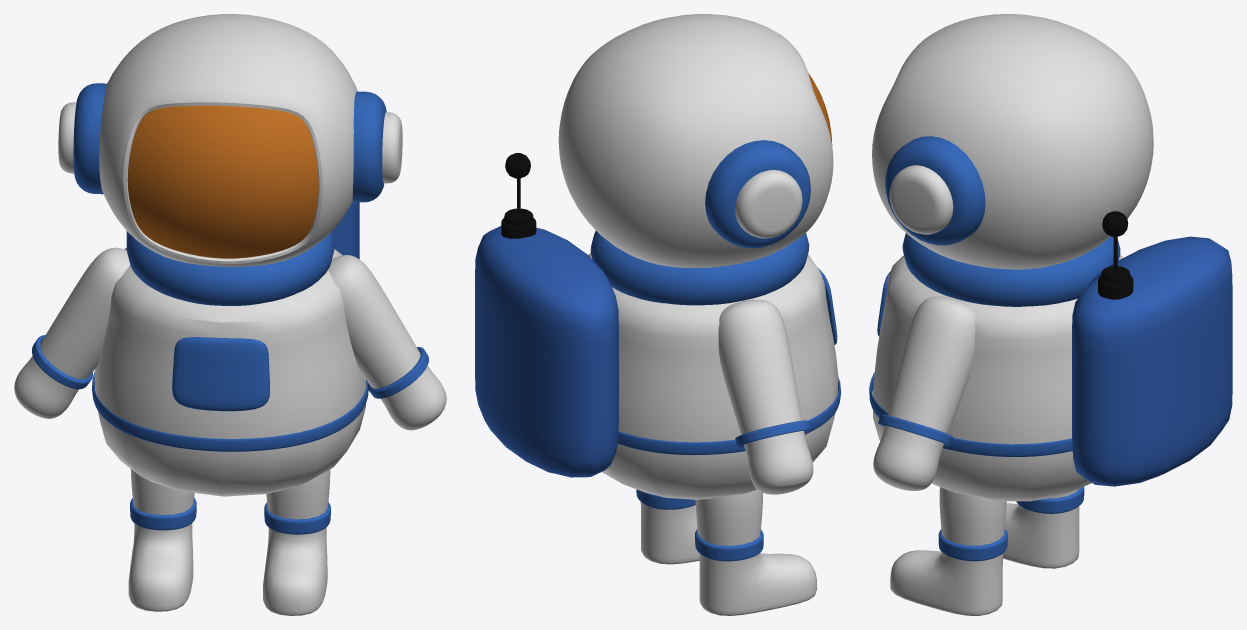
The model's file is spaceman_white.glb.
3 views of the same model, side by side, from view 1: azimuth 30°, elevation 25°; view 2: azimuth 150°, elevation 25°; view 3: azimuth 270°, elevation 25° (orthographic).
Parts seen in each view (by area): view 1: Cube.013, Cube.011, Cube.012, Cube.018, Cube.014, Cylinder.003, Torus.001, Cube.016, Cube.017, Cube.015, Cube.019, Cube.020; view 2: Cube.011, Cube.020, Cube.013, Cube.014, Cube.018, Cylinder.003, Torus.001, Cube.017, Cube.015, Cylinder.002, Cube.019, Cube.021; view 3: Cube.011, Cube.020, Cube.013, Cube.014, Cube.018, Cylinder.003, Torus.001, Cube.015, Cube.017, Cylinder.002, Cube.019, Cube.021.
Part boxes in pixels (x1,y1,x2,y2): Cube.013: (94, 248, 366, 496); Cube.011: (99, 14, 357, 266); Cube.012: (127, 105, 318, 258); Cube.018: (14, 247, 446, 430); Cube.014: (128, 469, 330, 615); Cylinder.003: (58, 83, 402, 202); Torus.001: (126, 232, 334, 305); Cube.016: (172, 337, 269, 411); Cube.017: (92, 371, 368, 451); Cube.015: (130, 498, 330, 534); Cube.019: (32, 335, 428, 398); Cube.020: (126, 202, 359, 259); Cube.011: (558, 14, 833, 267); Cube.020: (475, 226, 618, 477); Cube.013: (588, 253, 838, 499); Cube.014: (640, 489, 816, 615); Cube.018: (718, 299, 813, 494); Cylinder.003: (705, 140, 810, 248); Torus.001: (590, 230, 809, 305); Cube.017: (618, 377, 840, 455); Cube.015: (636, 489, 763, 561); Cylinder.002: (501, 178, 536, 238); Cube.019: (735, 420, 811, 447); Cube.021: (505, 153, 530, 178); Cube.011: (872, 14, 1153, 269); Cube.020: (1072, 236, 1232, 486); Cube.013: (872, 255, 1123, 501); Cube.014: (890, 487, 1079, 615); Cube.018: (873, 296, 975, 490); Cylinder.003: (885, 136, 985, 245); Torus.001: (902, 233, 1120, 306); Cube.015: (938, 486, 1084, 561); Cube.017: (869, 372, 1072, 456); Cylinder.002: (1098, 237, 1133, 299); Cube.019: (878, 414, 953, 445); Cube.021: (1102, 211, 1128, 236).
Bounding box in the file's own units: 2.8 × 4.41 × 2.63.
